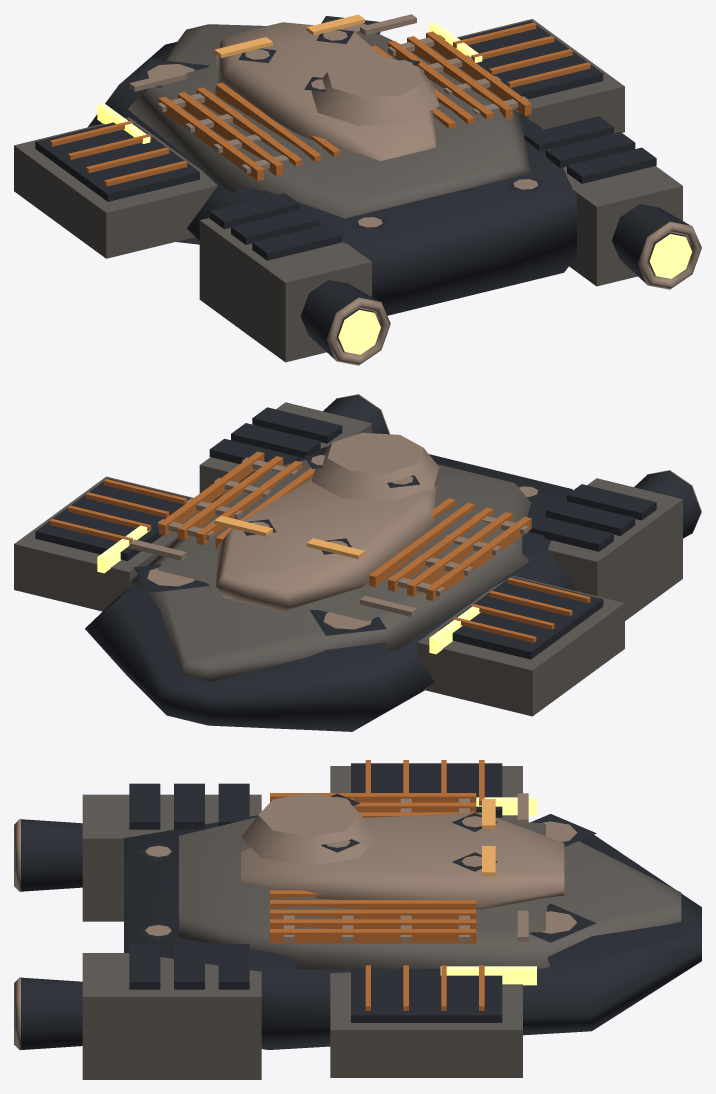
File: compact_high_gravity--science_vessel--lod1.glb
3 renders of one model, top to bottom at view 1: azimuth 30°, elevation 25°; view 2: azimuth 150°, elevation 25°; view 3: azimuth 270°, elevation 25°, orthographic. The views are drawn at different scales.
Visible parts, largest first — view 1: load_bearing_wedge_1, stepped_main_plate_2, armored_drive_block_4, reinforced_command_deck_3, broad_laboratory_wing_47, armored_drive_block_25, analysis_crown_59, lab_roof_48, lab_roof_54, broad_laboratory_wing_53, engine_shroud_5, engine_shroud_26 (+30 smaller); view 2: load_bearing_wedge_1, stepped_main_plate_2, reinforced_command_deck_3, broad_laboratory_wing_47, armored_drive_block_4, broad_laboratory_wing_53, analysis_crown_59, lab_roof_48, lab_roof_54, armored_drive_block_25, drive_grille_41, drive_grille_19 (+30 smaller); view 3: stepped_main_plate_2, load_bearing_wedge_1, armored_drive_block_25, reinforced_command_deck_3, broad_laboratory_wing_53, lab_roof_54, armored_drive_block_4, analysis_crown_59, engine_shroud_5, engine_shroud_26, lab_roof_48, deck_load_rib_37 (+16 smaller).
Part boxes in pixels (left/top/right/bottom): load_bearing_wedge_1: left=88, top=42, right=576, bottom=315; stepped_main_plate_2: left=128, top=24, right=531, bottom=218; armored_drive_block_4: left=199, top=218, right=371, bottom=362; reinforced_command_deck_3: left=216, top=22, right=436, bottom=161; broad_laboratory_wing_47: left=14, top=117, right=217, bottom=258; armored_drive_block_25: left=563, top=166, right=682, bottom=286; analysis_crown_59: left=311, top=57, right=439, bottom=125; lab_roof_48: left=35, top=119, right=199, bottom=201; lab_roof_54: left=458, top=20, right=603, bottom=99; broad_laboratory_wing_53: left=429, top=19, right=624, bottom=133; engine_shroud_5: left=300, top=280, right=379, bottom=359; engine_shroud_26: left=611, top=204, right=690, bottom=283; load_bearing_wedge_1: left=85, top=445, right=577, bottom=731; stepped_main_plate_2: left=128, top=459, right=531, bottom=681; reinforced_command_deck_3: left=216, top=479, right=436, bottom=611; broad_laboratory_wing_47: left=417, top=576, right=624, bottom=716; armored_drive_block_4: left=548, top=478, right=682, bottom=620; broad_laboratory_wing_53: left=14, top=476, right=212, bottom=611; analysis_crown_59: left=311, top=432, right=439, bottom=501; lab_roof_48: left=438, top=576, right=603, bottom=659; lab_roof_54: left=35, top=478, right=190, bottom=560; armored_drive_block_25: left=199, top=402, right=371, bottom=502; drive_grille_41: left=252, top=407, right=342, bottom=443; drive_grille_19: left=545, top=499, right=635, bottom=535; stepped_main_plate_2: left=179, top=811, right=681, bottom=969; load_bearing_wedge_1: left=124, top=815, right=701, bottom=1049; armored_drive_block_25: left=82, top=953, right=261, bottom=1079; reinforced_command_deck_3: left=241, top=812, right=564, bottom=909; broad_laboratory_wing_53: left=330, top=972, right=522, bottom=1077; lab_roof_54: left=351, top=968, right=502, bottom=1022; armored_drive_block_4: left=82, top=794, right=261, bottom=921; analysis_crown_59: left=241, top=793, right=378, bottom=866; engine_shroud_5: left=21, top=819, right=82, bottom=891; engine_shroud_26: left=21, top=977, right=82, bottom=1049; lab_roof_48: left=351, top=763, right=502, bottom=817; deck_load_rib_37: left=270, top=929, right=476, bottom=943.
Bounding box in the file's own units: 168 × 52 × 185.
